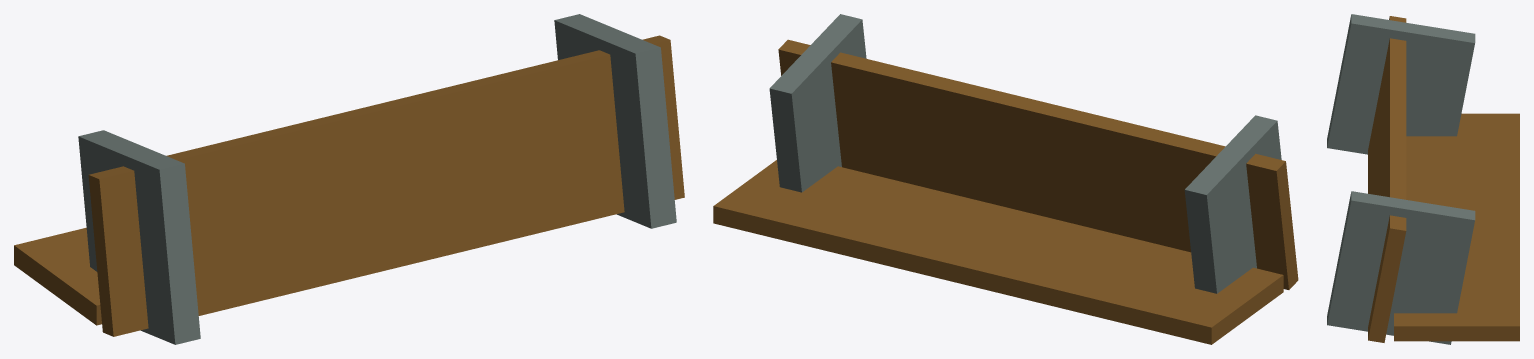
Rendered from SM_Banco_v4_LOD0.fbx.
3 views of the same model, side by side, from view 1: azimuth 30°, elevation 25°; view 2: azimuth 150°, elevation 25°; view 3: azimuth 270°, elevation 25° (orthographic). The views are drawn at different scales.
Parts seen in each view (by area): view 1: SM_urbano_v14_LOD0; view 2: SM_urbano_v14_LOD0; view 3: SM_urbano_v14_LOD0.
Boxes of the visible parts, left/top/right/bottom form: SM_urbano_v14_LOD0: left=14, top=14, right=684, bottom=344; SM_urbano_v14_LOD0: left=713, top=14, right=1298, bottom=344; SM_urbano_v14_LOD0: left=1327, top=14, right=1519, bottom=344.
Size of the model in its own units: 1.8 by 0.5705 by 0.69.
